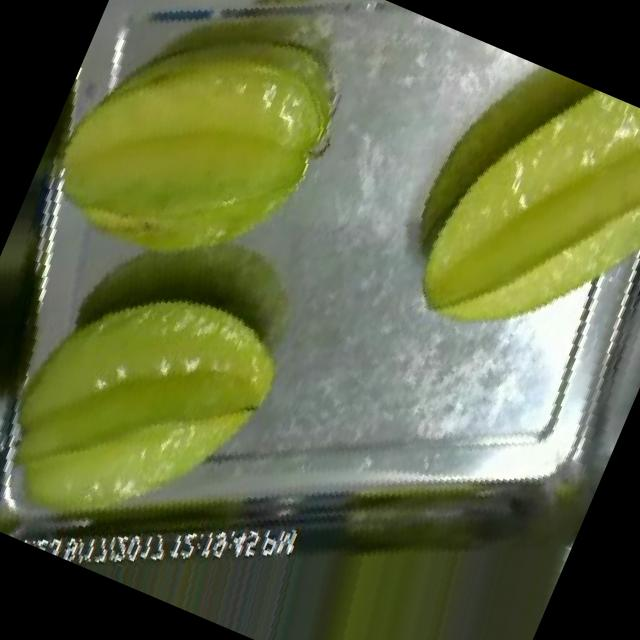fruit: (3, 0, 426, 370), (0, 181, 356, 618), (347, 33, 640, 417)
